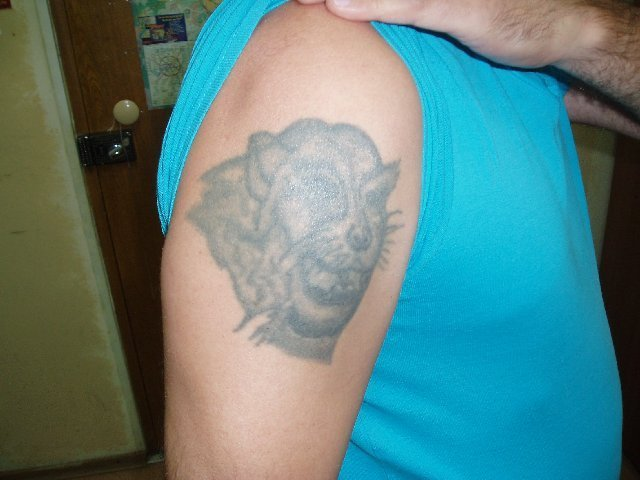tatu5_tigr: (181, 114, 404, 372)
